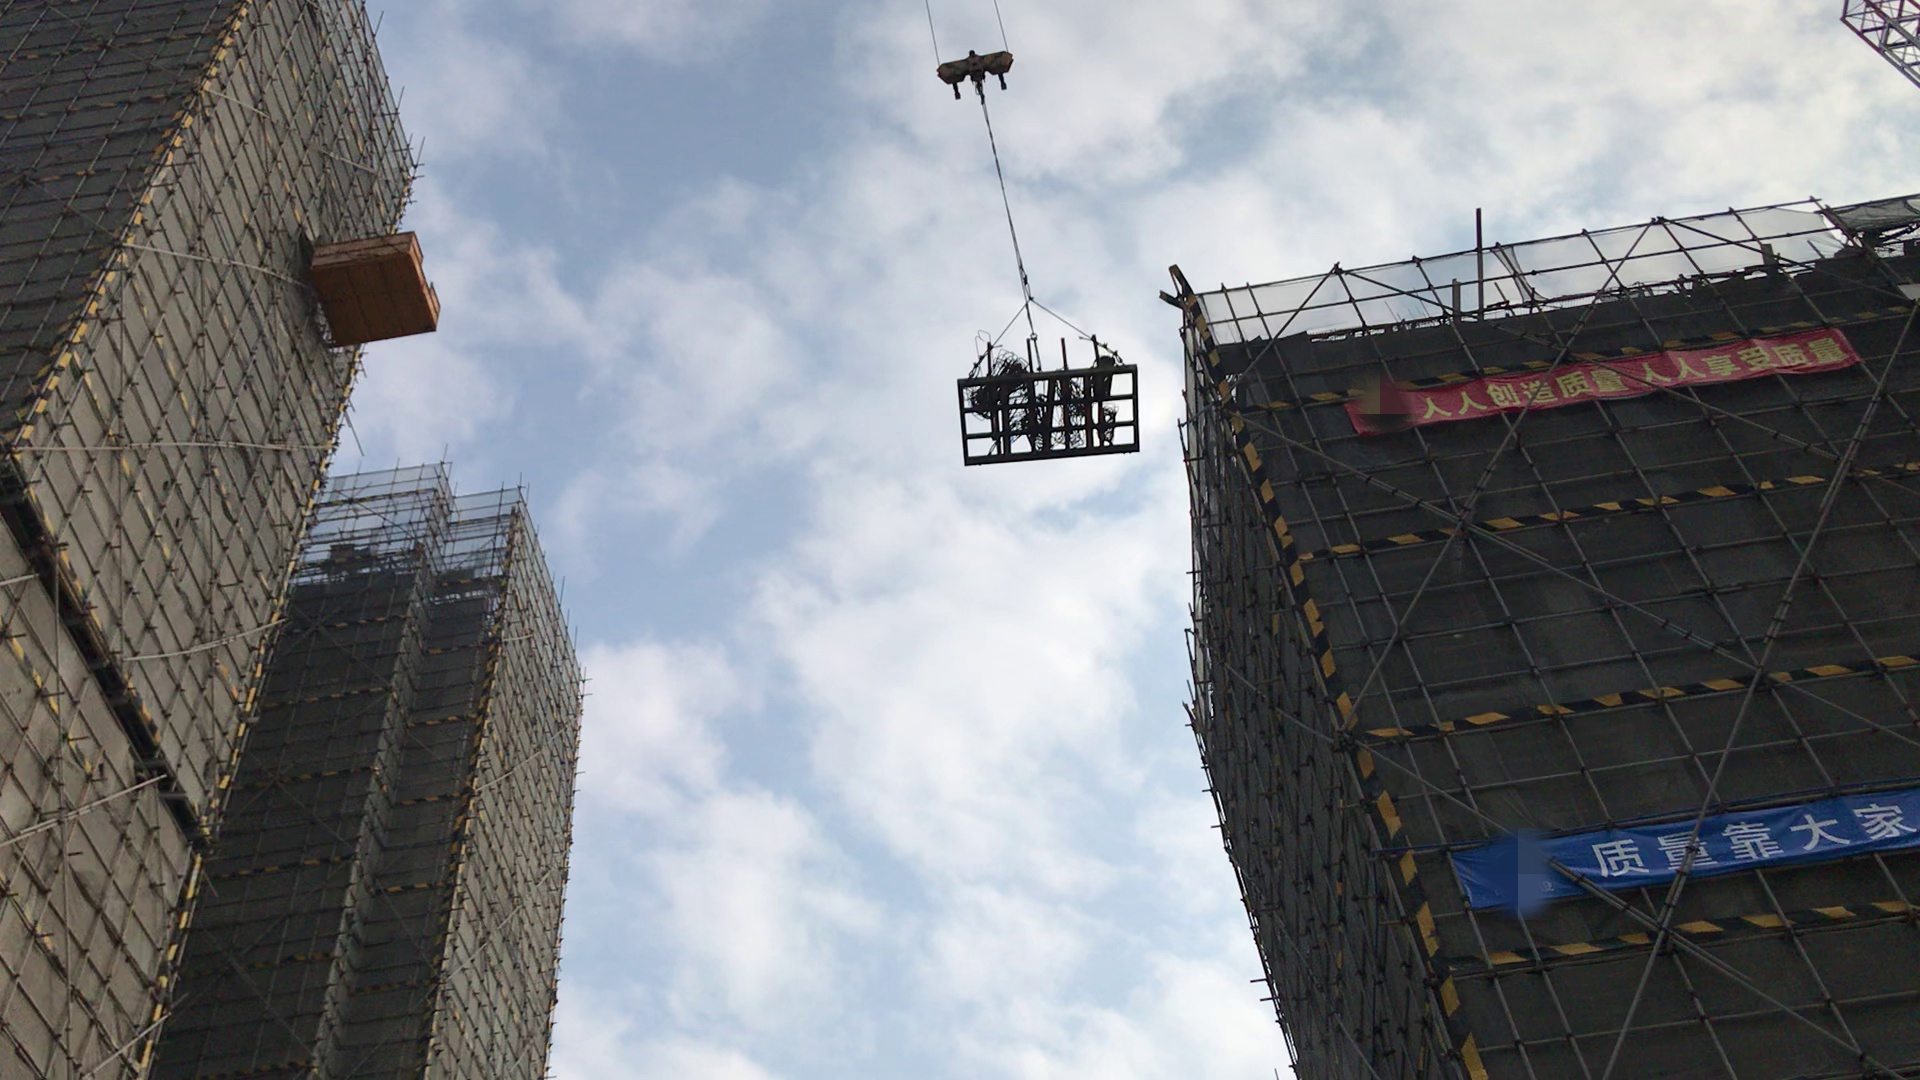hook: (909, 32, 1040, 109)
slogan: (1503, 767, 1920, 934), (1379, 334, 1851, 442)
